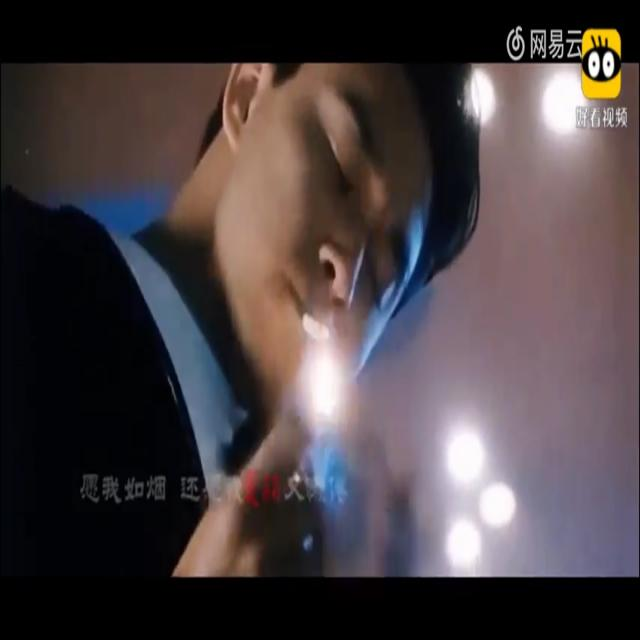smoke: (296, 311, 334, 353)
